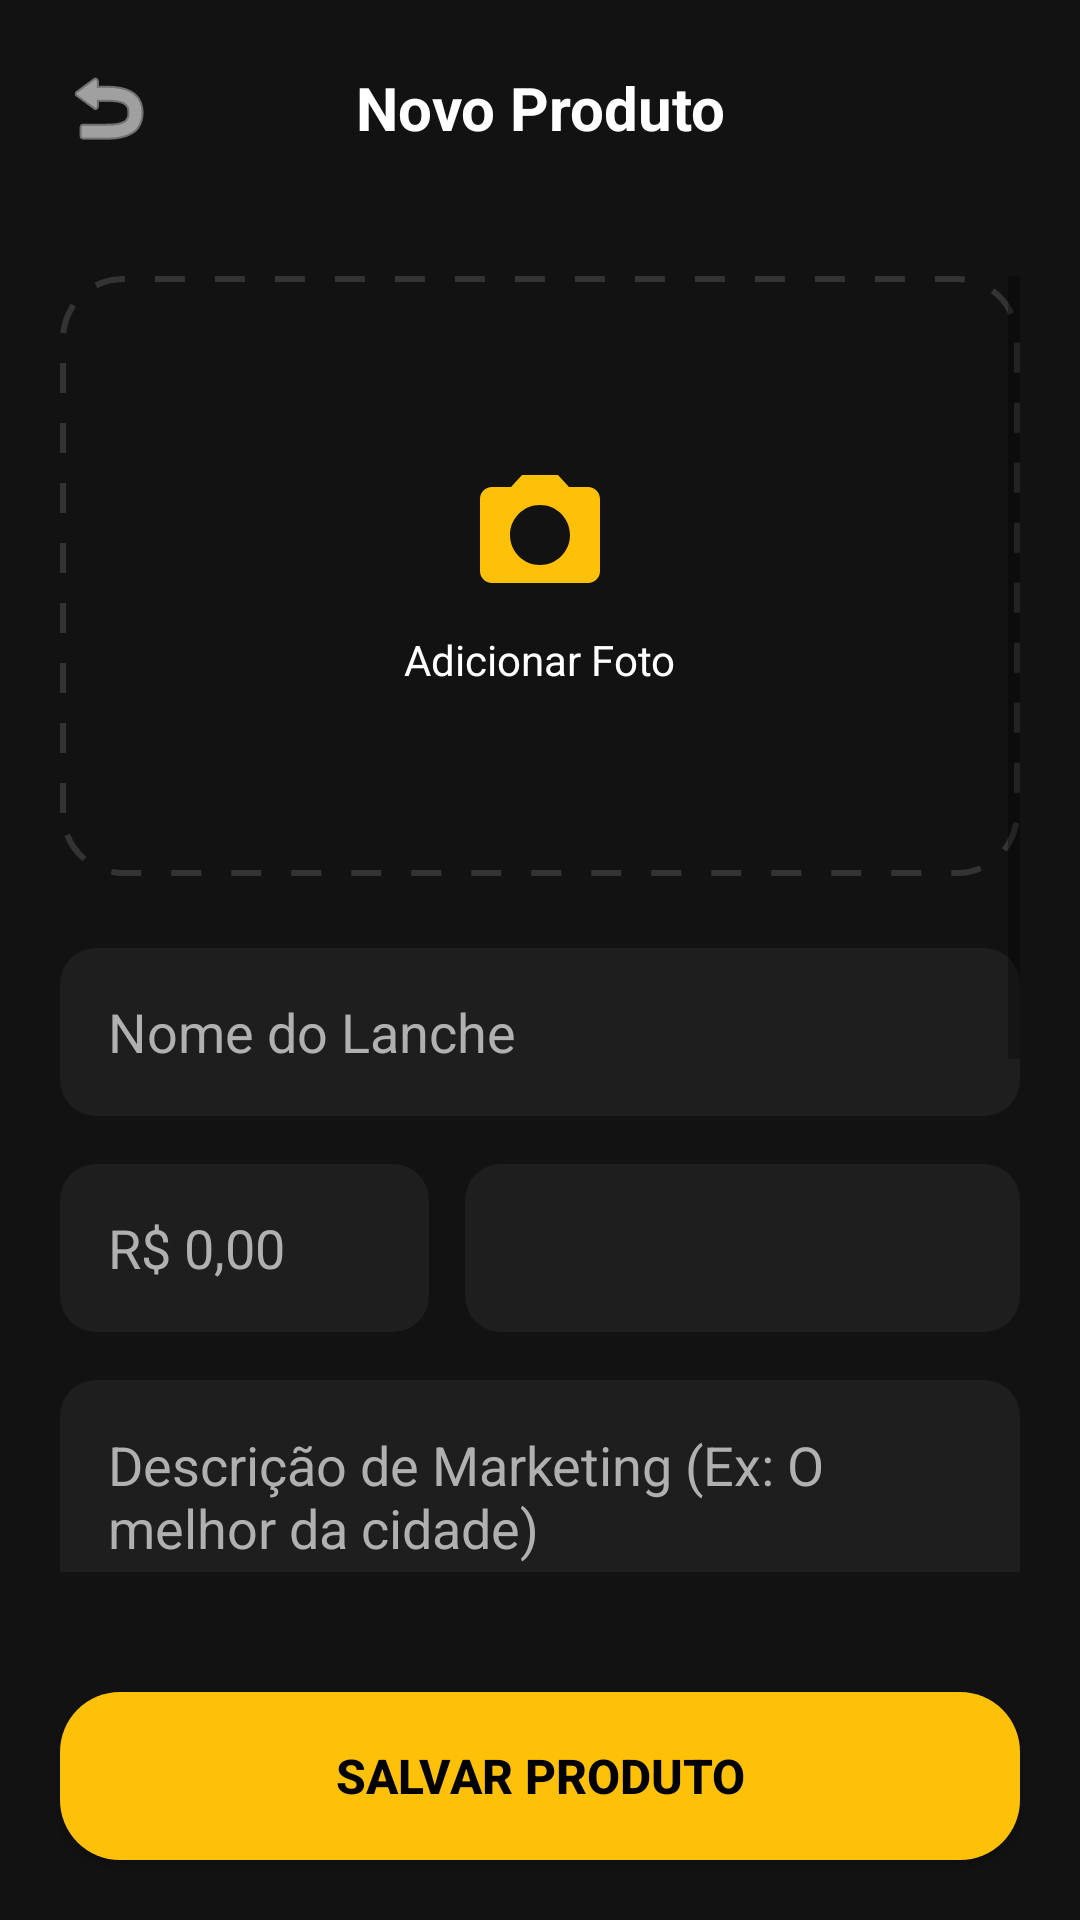

Icons on this 1080 × 1920 Android screen, each with the point to tap as [x,y]:
camera gold: [540,529]
Voltar: [109,108]
